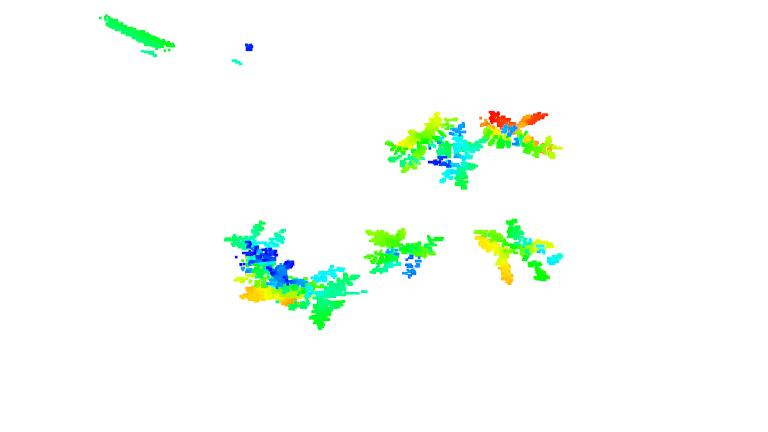chickpea: (227, 224, 359, 333), (471, 217, 562, 285), (362, 219, 439, 279), (383, 108, 454, 173), (482, 106, 564, 161), (437, 123, 485, 189)
